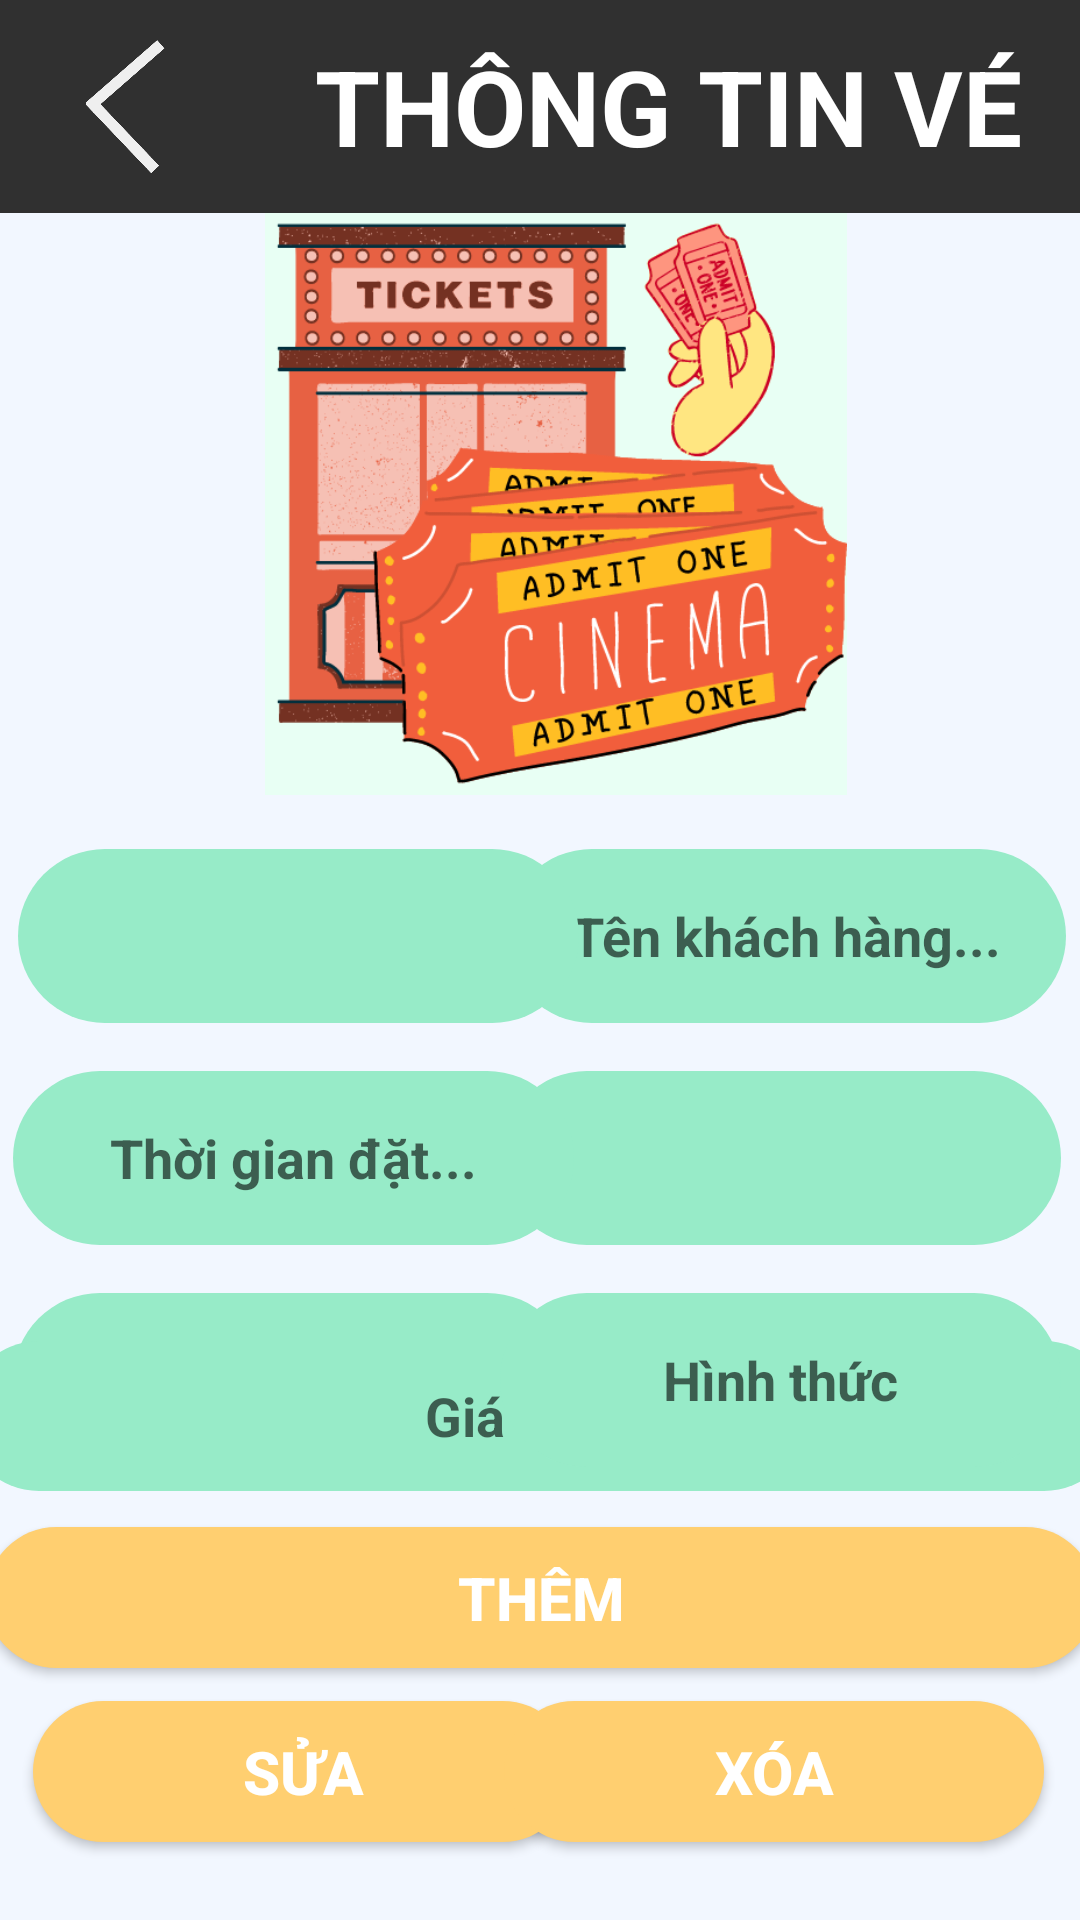

Icons on this 1080x1920 Android screen, each with its box as box(x1, y1, x2, y2):
turnback: box(86, 40, 164, 173)
